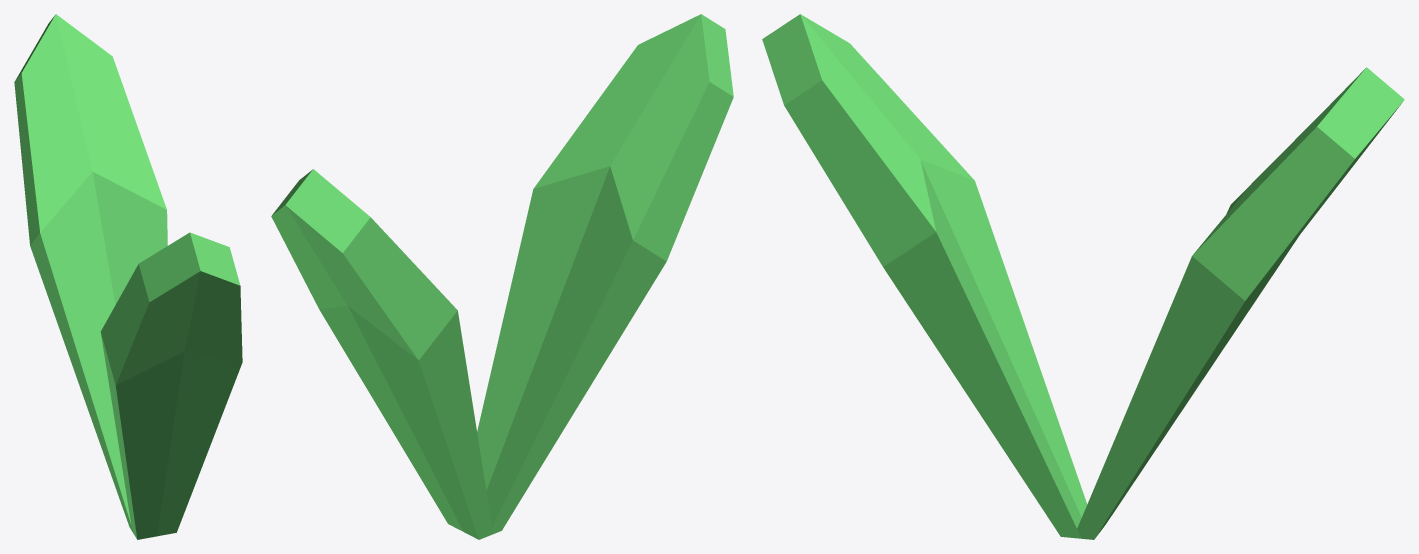
The model's file is PROP_grass1.fbx.
3 views of the same model, side by side, from view 1: azimuth 30°, elevation 25°; view 2: azimuth 150°, elevation 25°; view 3: azimuth 270°, elevation 25° (orthographic). The views are drawn at different scales.
Visible parts, largest first — view 1: Cube.005; view 2: Cube.005; view 3: Cube.005.
Part boxes in pixels (x1,y1,x2,y2): Cube.005: [14, 14, 242, 539]; Cube.005: [271, 14, 733, 539]; Cube.005: [762, 14, 1404, 539].
Size of the model in its own units: 19.87 by 40.46 by 49.08.
